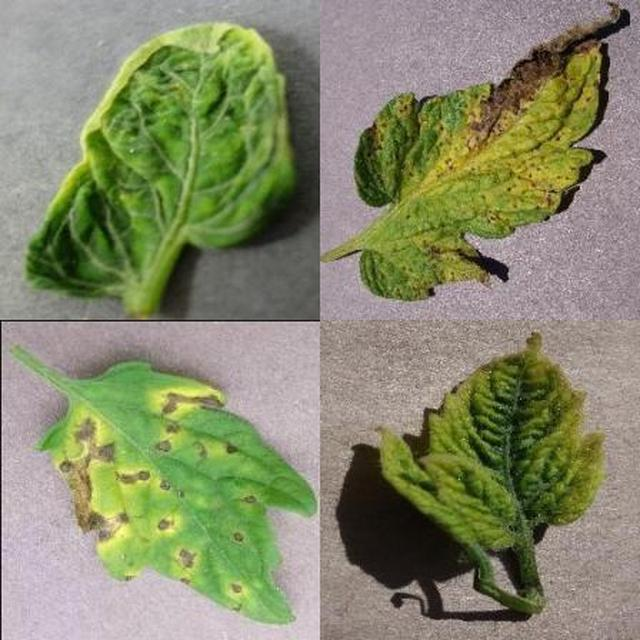Yellow Leaf Curl Virus: (229, 218, 640, 640)
